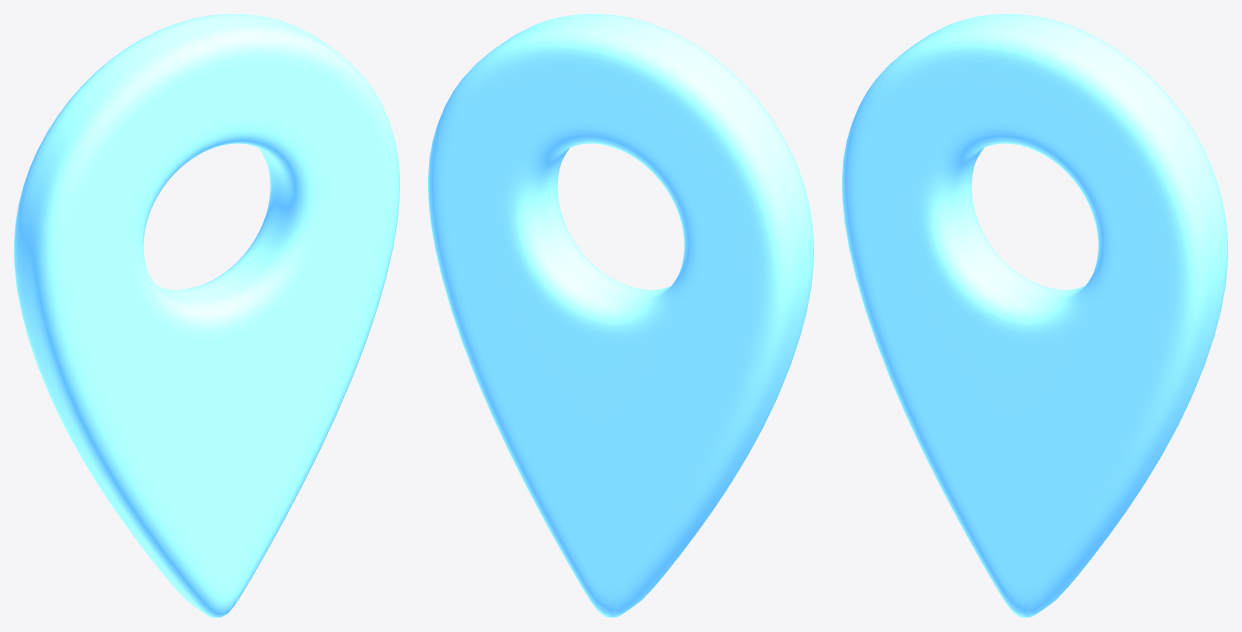
The model's file is loc.glb.
3 views of the same model, side by side, from view 1: azimuth 30°, elevation 25°; view 2: azimuth 150°, elevation 25°; view 3: azimuth 330°, elevation 25° (orthographic).
Parts seen in each view (by area): view 1: Cylinder.004; view 2: Cylinder.004; view 3: Cylinder.004.
Part boxes in pixels (x1=…): Cylinder.004: x1=14, y1=14, x2=399, y2=617; Cylinder.004: x1=428, y1=14, x2=813, y2=617; Cylinder.004: x1=842, y1=14, x2=1227, y2=617.
Bounding box in the file's own units: 2.94 × 4.52 × 0.5368.
